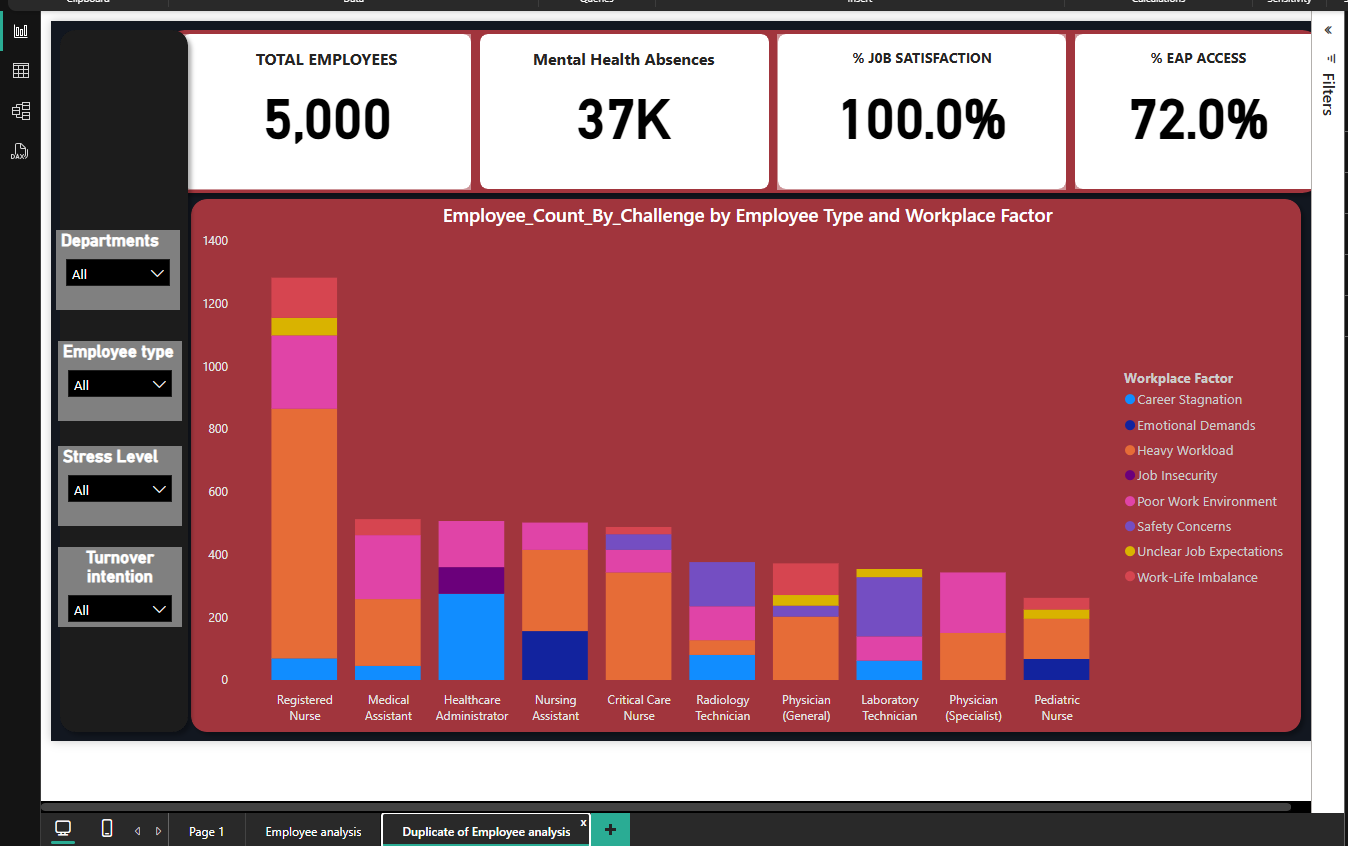

Layout of this report page (visuals, bound fields, positions):
{"tool":"powerbi","page":{"name":"Duplicate of Employee analysis","canvas":[1280,720],"ordinal":2},"visuals":[{"type":"shape","box":[105,0,1175,180.9],"z":1000},{"type":"shape","box":[131,13,289,155],"z":3000},{"type":"shape","box":[428.8,12.6,288.9,155.6],"z":4000},{"type":"shape","box":[726.5,12.6,288.9,155.6],"z":5000},{"type":"shape","box":[1024.2,12.6,247.1,155.6],"z":6000},{"type":"card","fields":{"Values":["Measures (3).Total Employee"]},"box":[131,13,289,156],"z":7000},{"type":"card","fields":{"Values":["Measures (3).Total mental health absence"]},"box":[428,13,289,156],"z":8000},{"type":"textbox","box":[131,22,289,45],"z":9000},{"type":"textbox","box":[428,22,289,45],"z":10000},{"type":"card","fields":{"Values":["Measures (3).Job_Satisfaction_Percentage"]},"box":[726,13,289,156],"z":11000},{"type":"textbox","box":[727,22,288,48],"z":12000},{"type":"card","fields":{"Values":["Measures (3).EAP_Access_Percentage"]},"box":[1024,13,247,155],"z":13000},{"type":"textbox","box":[1024,22,247,48],"z":14000},{"type":"shape","box":[131,169,1128,551],"z":17000},{"type":"shape","box":[0,0,146,720],"z":18000},{"type":"slicer","title":"Departments","fields":{"Values":["Healthcare Workforce Mental Health Dataset.Department"]},"box":[5,209,124,80],"z":19000},{"type":"slicer","title":"Employee  type","fields":{"Values":["Healthcare Workforce Mental Health Dataset.Employee Type"]},"box":[7,320,124,80],"z":20000},{"type":"slicer","title":"Stress Level","fields":{"Values":["Healthcare Workforce Mental Health Dataset.Stress Level"]},"box":[7,425,124,80],"z":21000},{"type":"slicer","title":"Turnover intention","fields":{"Values":["Healthcare Workforce Mental Health Dataset.Turnover Intention"]},"box":[7,526,124,80],"z":22000},{"type":"columnChart","fields":{"Category":["Healthcare Workforce Mental Health Dataset.Employee Type"],"Y":["Measures (3).Employee_Count_By_Challenge"],"Series":["Healthcare Workforce Mental Health Dataset.Workplace Factor"]},"box":[146,181,1101,529],"z":22001}]}

Visuals, with their boxes on the page's 1280x720 design canvas (x1, y1, x2, y2). These are canvas units, not pixel positions in the 1348x846 screenshot, which may show the page scaled, cropped or inside an application window:
shape: region(105, 0, 1280, 181)
shape: region(131, 13, 420, 168)
shape: region(429, 13, 718, 168)
shape: region(726, 13, 1015, 168)
shape: region(1024, 13, 1271, 168)
card - Measures (3).Total Employee: region(131, 13, 420, 169)
card - Measures (3).Total mental health absence: region(428, 13, 717, 169)
textbox: region(131, 22, 420, 67)
textbox: region(428, 22, 717, 67)
card - Measures (3).Job_Satisfaction_Percentage: region(726, 13, 1015, 169)
textbox: region(727, 22, 1015, 70)
card - Measures (3).EAP_Access_Percentage: region(1024, 13, 1271, 168)
textbox: region(1024, 22, 1271, 70)
shape: region(131, 169, 1259, 720)
shape: region(0, 0, 146, 720)
"Departments" slicer: region(5, 209, 129, 289)
"Employee  type" slicer: region(7, 320, 131, 400)
"Stress Level" slicer: region(7, 425, 131, 505)
"Turnover intention" slicer: region(7, 526, 131, 606)
columnChart - Healthcare Workforce Mental Health Dataset.Employee Type x Measures (3).Employee_Count_By_Challenge: region(146, 181, 1247, 710)
